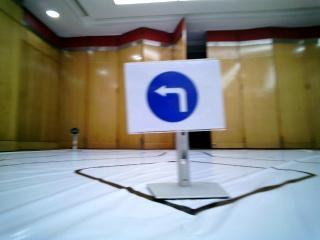left: (125, 62, 218, 124)
